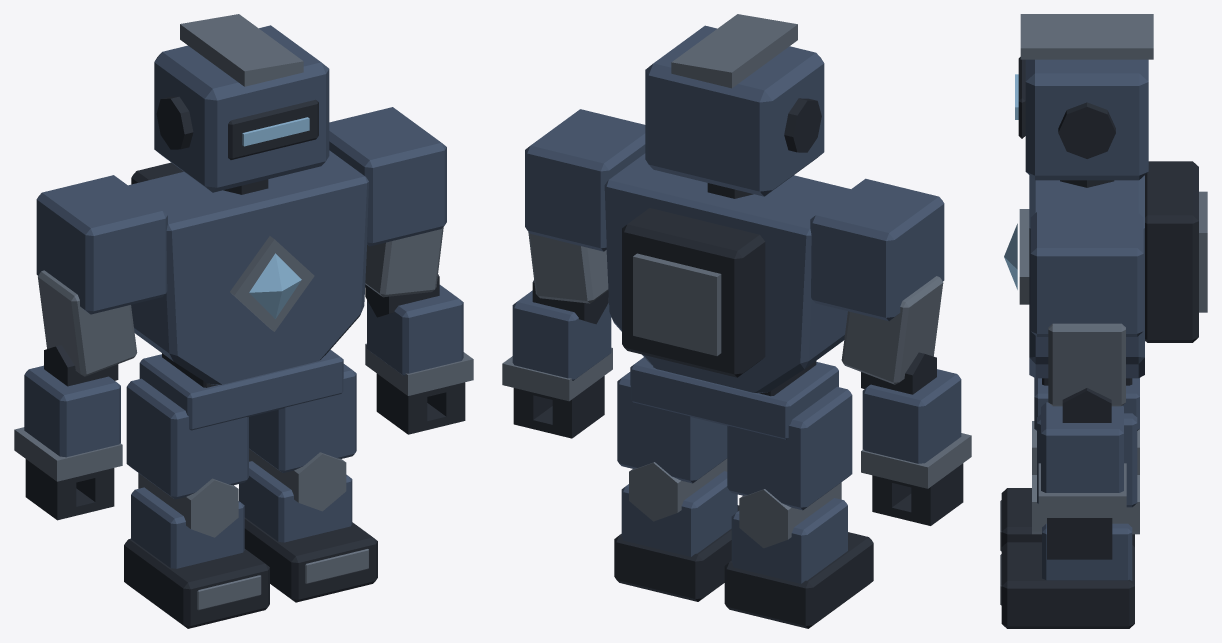
3 renders of one model, left to right at view 1: azimuth 30°, elevation 25°; view 2: azimuth 150°, elevation 25°; view 3: azimuth 270°, elevation 25°, orthographic. The views are drawn at different scales.
Parts seen in each view (by area): view 1: Tronco, Cabeça de avatar, Ombro, Ombro.001, Coxa.001, Quadril, Bota.001, Antebraço.001, Coxa, Antebraço, Braço.001, Bota (+19 smaller); view 2: Tronco, Cabeça de avatar, Ombro, Mochila, Ombro.001, Coxa.001, Quadril, Painel da mochila, Bota.001, Antebraço.001, Coxa, Braço.001 (+15 smaller); view 3: Ombro.001, Cabeça de avatar, Mochila, Bota, Antebraço, Crista do capacete, Braço, Tronco, Canela, Mão de avatar.001, Conector lateral.001, Punho.001 (+10 smaller).
Part boxes in pixels (x1,y1,x2,y2): Tronco: (128,150,368,384); Cabeça de avatar: (154,25,329,192); Ombro: (36,175,167,314); Ombro.001: (329,107,446,246); Coxa.001: (126,378,248,499); Quadril: (139,350,343,430); Bota.001: (124,538,269,628); Antebraço.001: (24,365,120,457); Coxa: (249,364,356,472); Antebraço: (367,285,463,376); Braço.001: (38,270,137,376); Bota: (244,517,377,602); Tronco: (604,153,850,393); Cabeça de avatar: (645,25,824,196); Ombro: (810,178,944,320); Mochila: (622,208,765,377); Ombro.001: (525,109,645,251); Coxa.001: (727,386,852,510); Quadril: (630,357,838,439); Painel da mochila: (633,253,721,355); Bota.001: (724,532,873,628); Antebraço.001: (862,369,961,463); Coxa: (617,372,727,483); Braço.001: (841,276,943,384); Ombro.001: (1030,212,1143,336); Cabeça de avatar: (1025,59,1148,180); Mochila: (1145,161,1198,342); Bota: (1001,542,1134,628); Antebraço: (1041,402,1123,492); Crista do capacete: (1020,14,1153,59); Braço: (1048,323,1125,406); Tronco: (1029,175,1144,378); Canela: (1042,523,1132,580); Mão de avatar.001: (1047,518,1112,559); Conector lateral.001: (1058,102,1115,158); Punho.001: (1038,463,1126,517).
Size of the model in its own units: 1.97 by 2.43 by 0.824.
